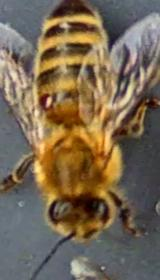varroa_mite: (30, 84, 56, 111)
